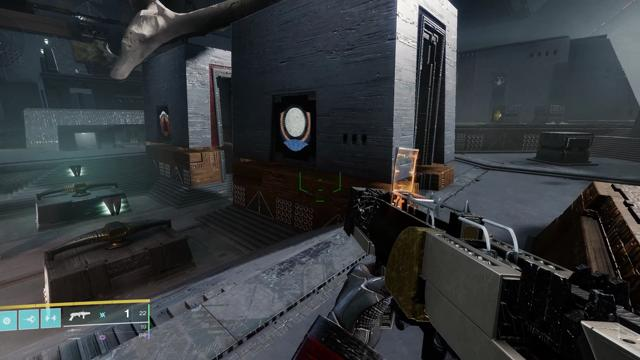pyramid: (159, 111, 170, 136)
traveler: (279, 104, 312, 151)
